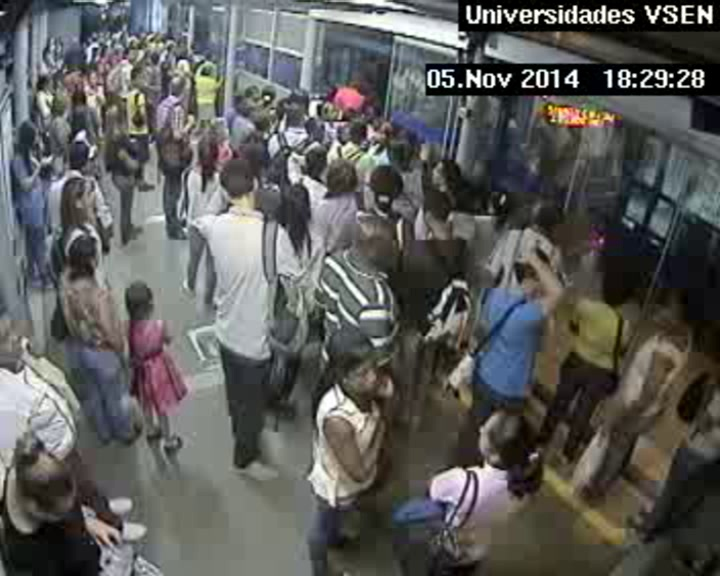person: (15, 433, 89, 531), (474, 408, 536, 478), (332, 342, 385, 402), (647, 288, 695, 336), (352, 214, 395, 260), (220, 159, 258, 207), (517, 245, 553, 291), (600, 266, 639, 307), (61, 177, 100, 217), (1, 311, 29, 366), (386, 128, 422, 169), (367, 164, 403, 202), (422, 190, 457, 229), (67, 237, 102, 274), (121, 279, 156, 314), (281, 183, 313, 220), (328, 158, 363, 190), (533, 202, 564, 236), (431, 160, 461, 193), (302, 146, 330, 177), (283, 95, 311, 124), (67, 140, 93, 168), (16, 121, 41, 149), (484, 192, 509, 219), (198, 136, 222, 162), (239, 145, 263, 171), (101, 105, 125, 128), (209, 119, 232, 142), (127, 67, 151, 89), (376, 121, 397, 146), (167, 76, 188, 97), (250, 111, 271, 132), (51, 96, 71, 118), (70, 113, 89, 133), (350, 123, 369, 142), (335, 123, 353, 142), (363, 105, 381, 124), (72, 94, 89, 113), (239, 98, 256, 117), (262, 85, 278, 104), (323, 103, 339, 121), (245, 83, 263, 98), (86, 70, 101, 85), (36, 76, 50, 92), (174, 47, 187, 61), (123, 47, 136, 60), (201, 66, 213, 78), (150, 52, 161, 64), (151, 33, 162, 44), (177, 35, 188, 46), (204, 53, 215, 64), (128, 39, 137, 48), (60, 63, 69, 72), (166, 38, 175, 47), (90, 30, 98, 40), (47, 35, 55, 45), (104, 30, 112, 39), (120, 22, 128, 31), (105, 39, 113, 48), (157, 40, 165, 49), (68, 64, 76, 72), (78, 65, 86, 73), (167, 44, 175, 52), (102, 46, 110, 54), (55, 36, 62, 44), (92, 48, 99, 56), (99, 13, 106, 20), (115, 48, 122, 55), (85, 36, 91, 43), (112, 28, 118, 33)
